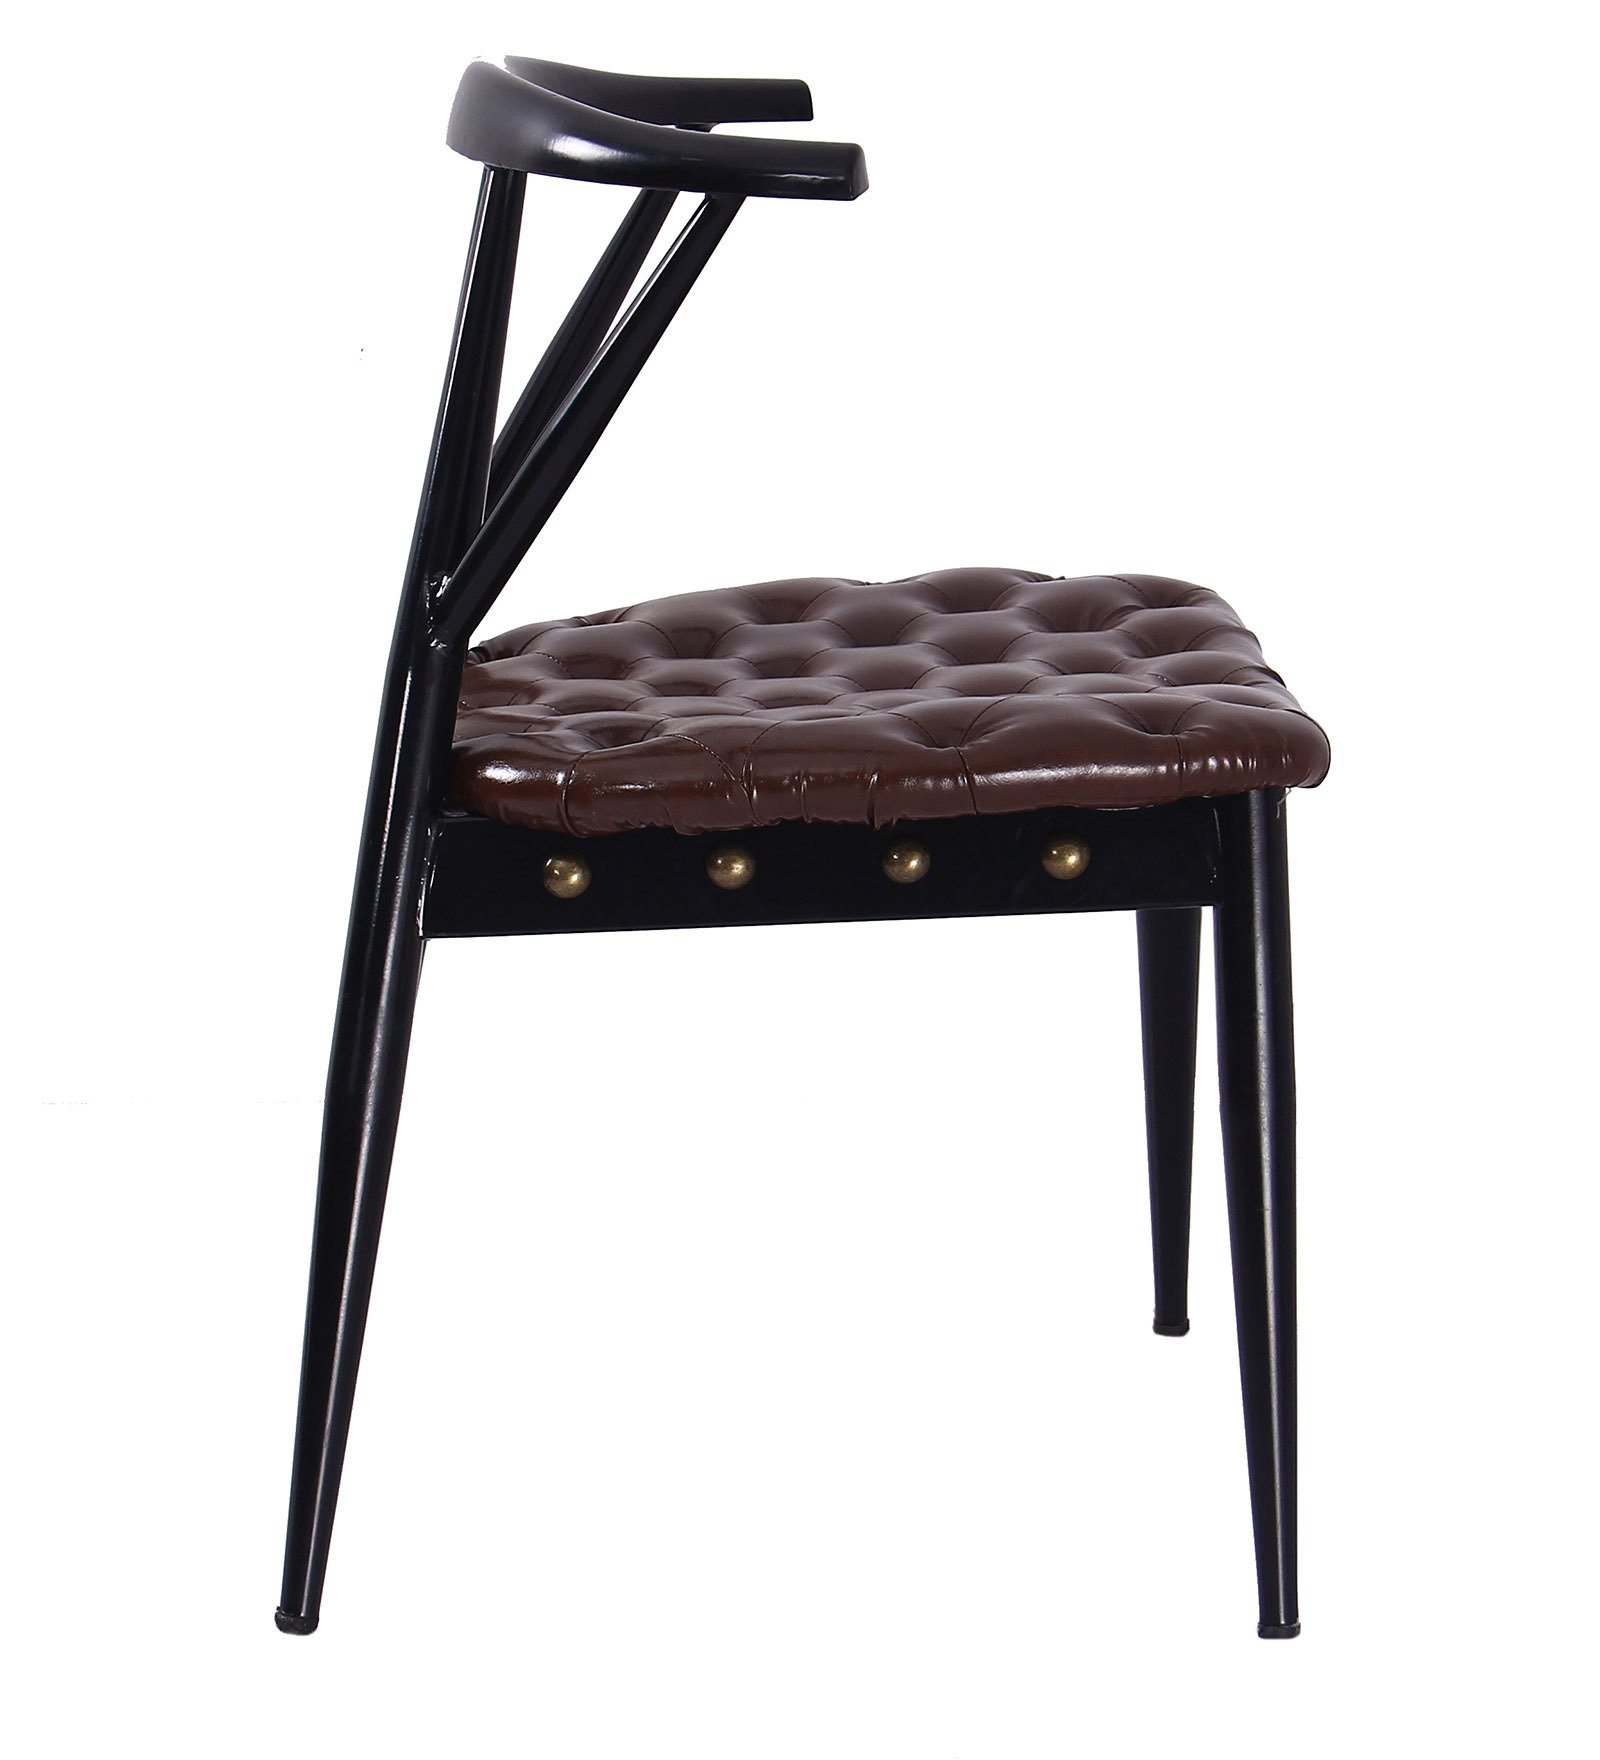Negus Metal Chair (Set of 2) in Black Colour by Bohemiana: (265, 51, 1329, 1645)
